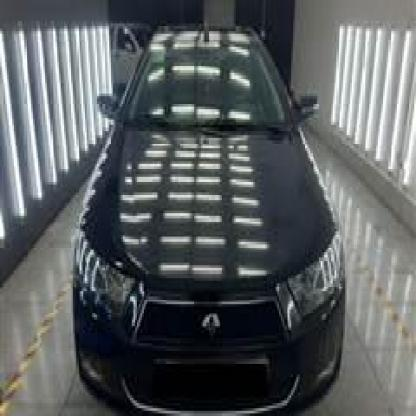Car: (57, 10, 350, 416), (106, 13, 155, 86)
